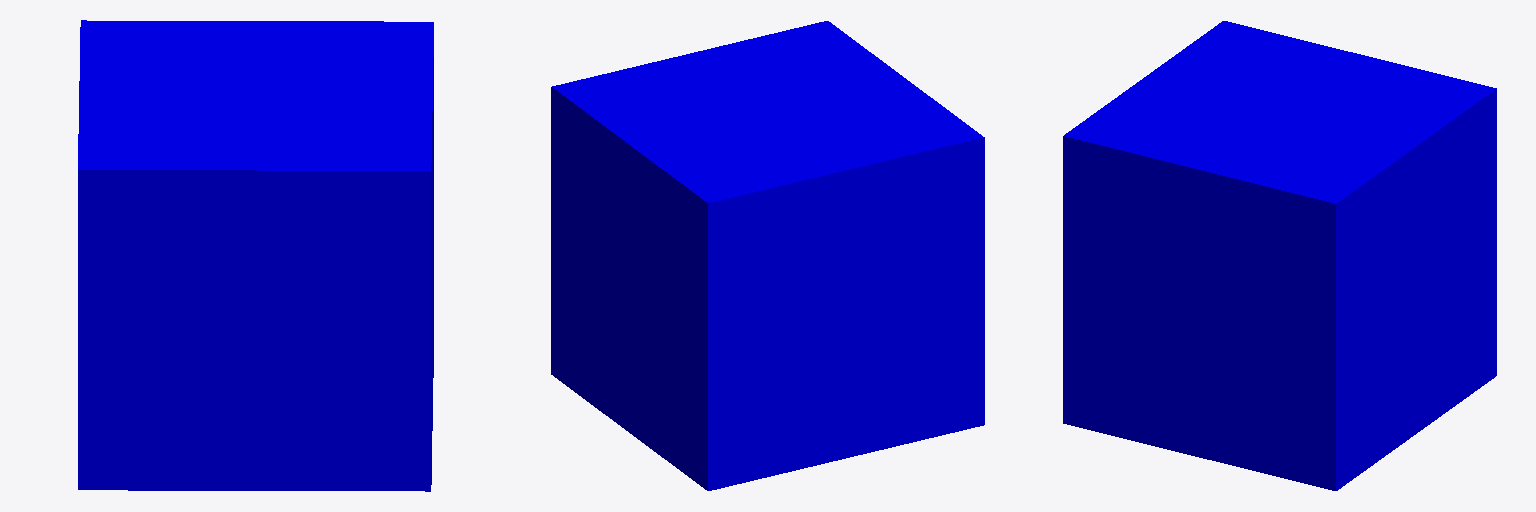
robot.urdf — cube_2:
<?xml version='1.0'?>
<robot name='cube_2'>
	<link name='world'/>
	<joint name='world_joint' type='floating'>
		<parent link='world'/>
		<child link='cube'/>
		<origin xyz='0 0 0' rpy='0 0 0'/>
	</joint>
	<link name='cube'>
		<visual>
			<origin xyz='0.1532088886237956 -0.12855752193730785 0.015' rpy='0 0 -0.5315514287297738'/>
			<geometry>
				<box size='0.03 0.03 0.03' />
			</geometry>
			<material name='Blue'>
				<color rgba='0 0 1 1' />
			</material>
		</visual>
		<collision>
			<origin xyz='0.1532088886237956 -0.12855752193730785 0.015' rpy='0 0 -0.5315514287297738'/>
			<geometry>
				<box size='0.03 0.03 0.03' />
			</geometry>
		</collision>
		<inertial>
			<origin xyz='0.1532088886237956 -0.12855752193730785 0.015' rpy='0 0 -0.5315514287297738'/>
			<mass value='0.03' />
			<inertia 
				ixx='4.5e-06' 
				ixy='0.0' 
				ixz='0.0' 
				iyy='4.5e-06' 
				iyz='0.0' 
				izz='4.5e-06' />
		</inertial>
	</link>
	<gazebo reference='cube'>
		<material>Gazebo/Blue</material>
	</gazebo>
</robot>

--- Facts derived from the render (not from the file) ---
Views: 3 orthographic renders of the robot side by side, from view 1: azimuth 30°, elevation 25°; view 2: azimuth 150°, elevation 25°; view 3: azimuth 270°, elevation 25°.
Robot: cube_2 — 2 links, 1 joints (1 floating); root link world; default pose: every joint at zero.
Visible links, largest first — view 1: cube; view 2: cube; view 3: cube.
Link boxes in pixels (<box>): cube: <box>78,20,433,491</box>; cube: <box>551,21,984,490</box>; cube: <box>1063,21,1496,490</box>.
Size in the robot's own frame: 0.0411 by 0.0411 by 0.03 metres.
Geometry: primitives only (box / cylinder / sphere), no mesh files.